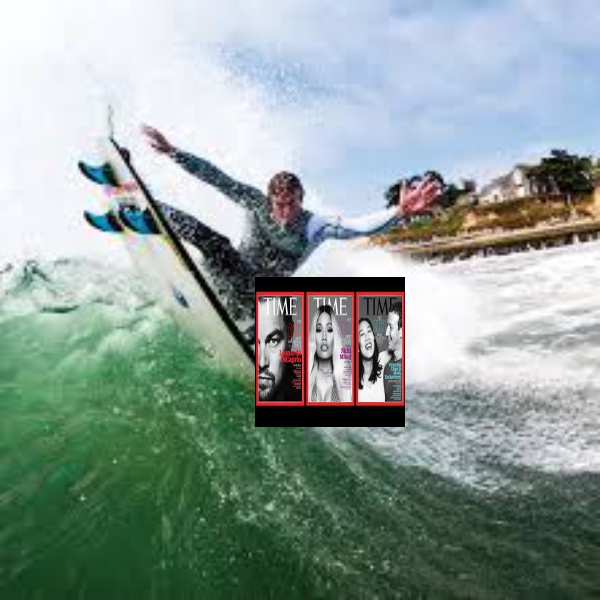time_cover: (248, 270, 300, 413), (307, 287, 352, 406), (364, 280, 405, 407)
